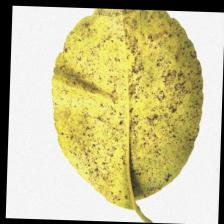canker: (107, 54, 188, 150)
